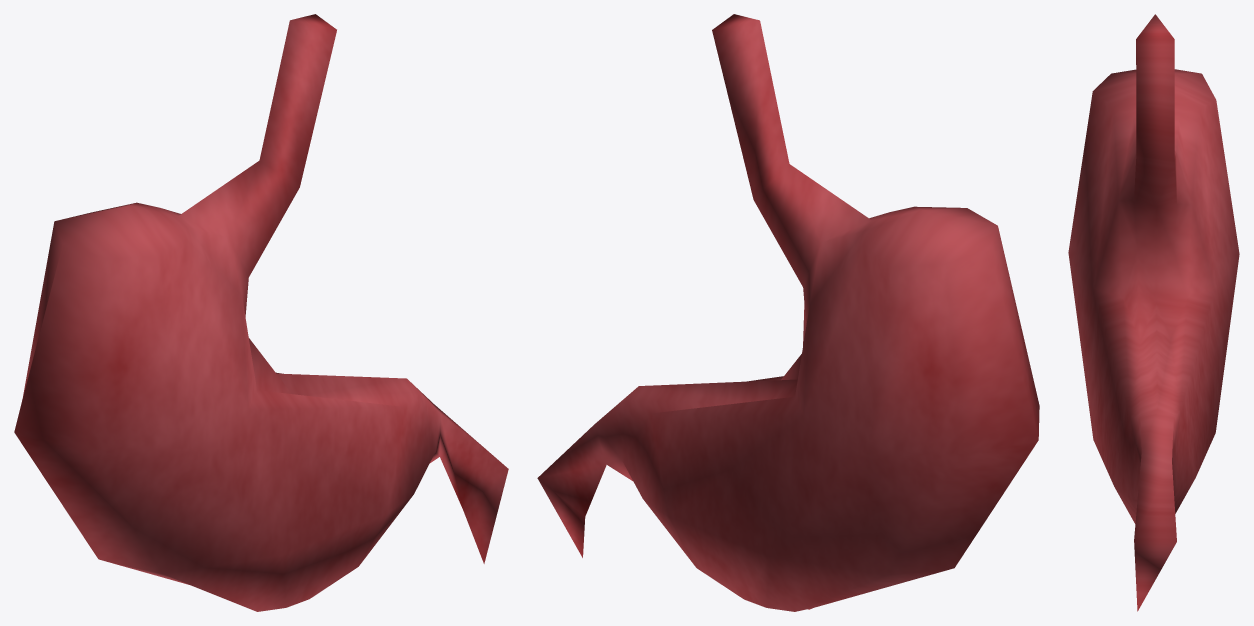
Rendered from Stomach.fbx.
The picture shows the model from 3 angles, left to right: view 1: azimuth 30°, elevation 25°; view 2: azimuth 150°, elevation 25°; view 3: azimuth 270°, elevation 25°; orthographic projection. The views are drawn at different scales.
Parts seen in each view (by area): view 1: Cylinder.005; view 2: Cylinder.005; view 3: Cylinder.005.
Boxes of the visible parts, x1,y1,x2,y2 form: Cylinder.005: [14, 14, 508, 611]; Cylinder.005: [537, 14, 1039, 611]; Cylinder.005: [1068, 14, 1239, 611].
Bounding box in the file's own units: 978 × 1129 × 338.
